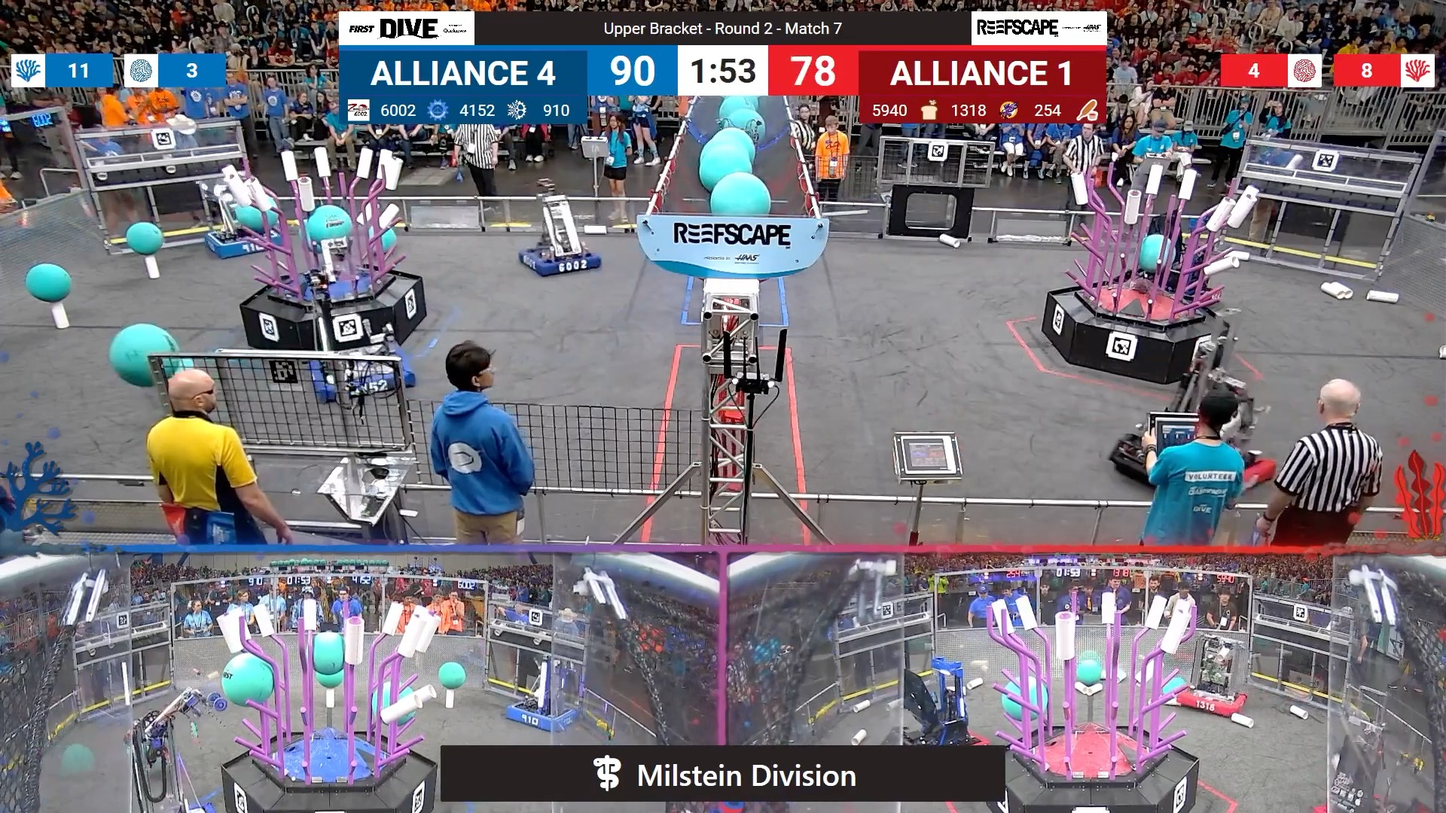bumpers: (1118, 417, 1278, 495), (301, 346, 417, 401), (199, 219, 292, 261), (516, 246, 609, 280), (1164, 682, 1253, 717), (501, 700, 587, 736)
